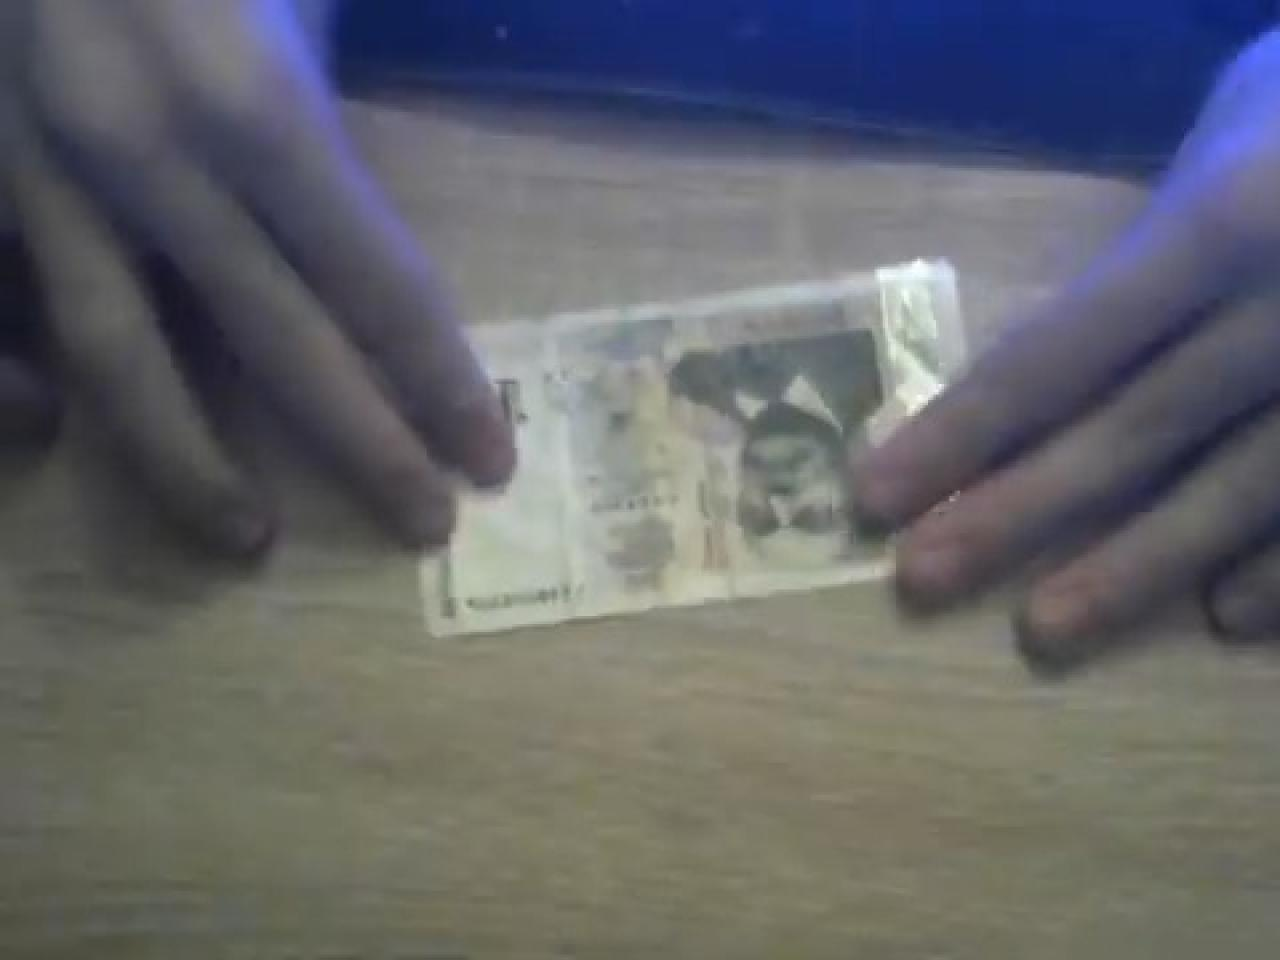10leva: (424, 264, 957, 634)
